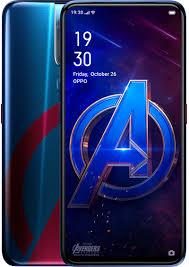oppo: (2, 1, 188, 266)
